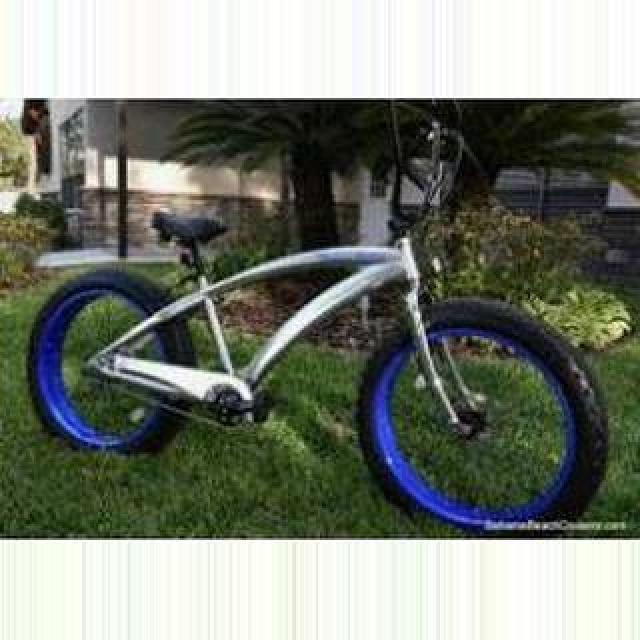Person: (24, 166, 610, 530)
